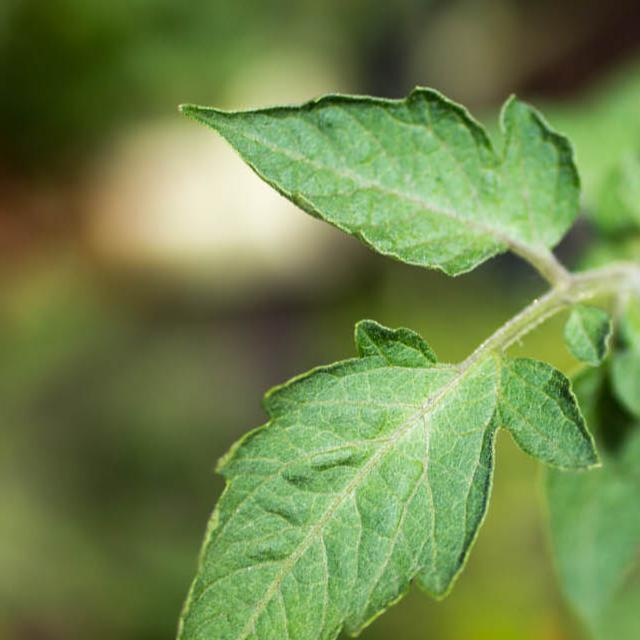Tomato leaf: (96, 324, 537, 640), (122, 65, 628, 278)
